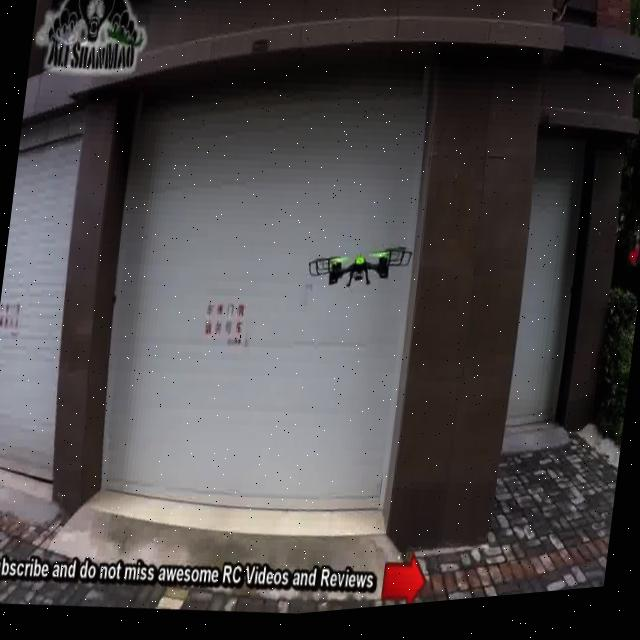drone: (305, 232, 418, 307)
